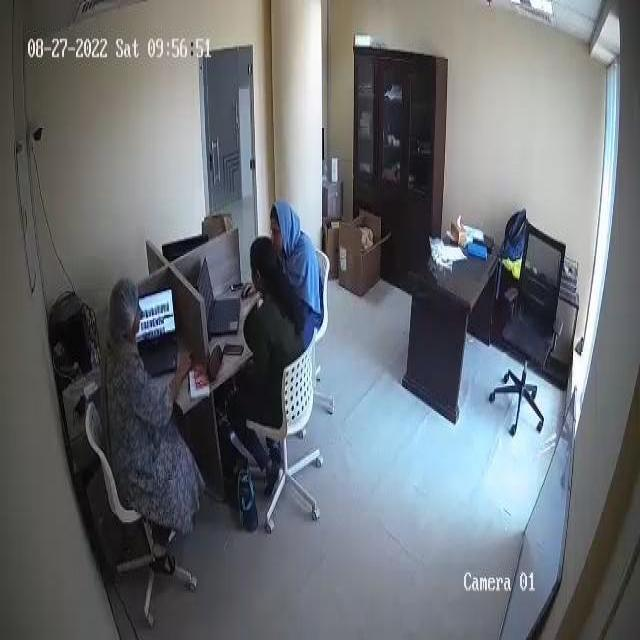bare_hand: (172, 344, 194, 387), (235, 275, 263, 308)
